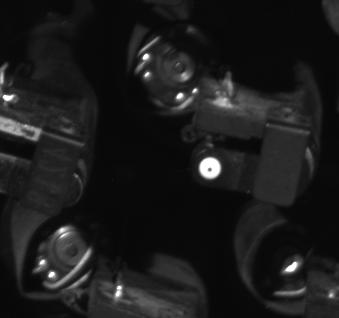fiber: (195, 153, 228, 185)
